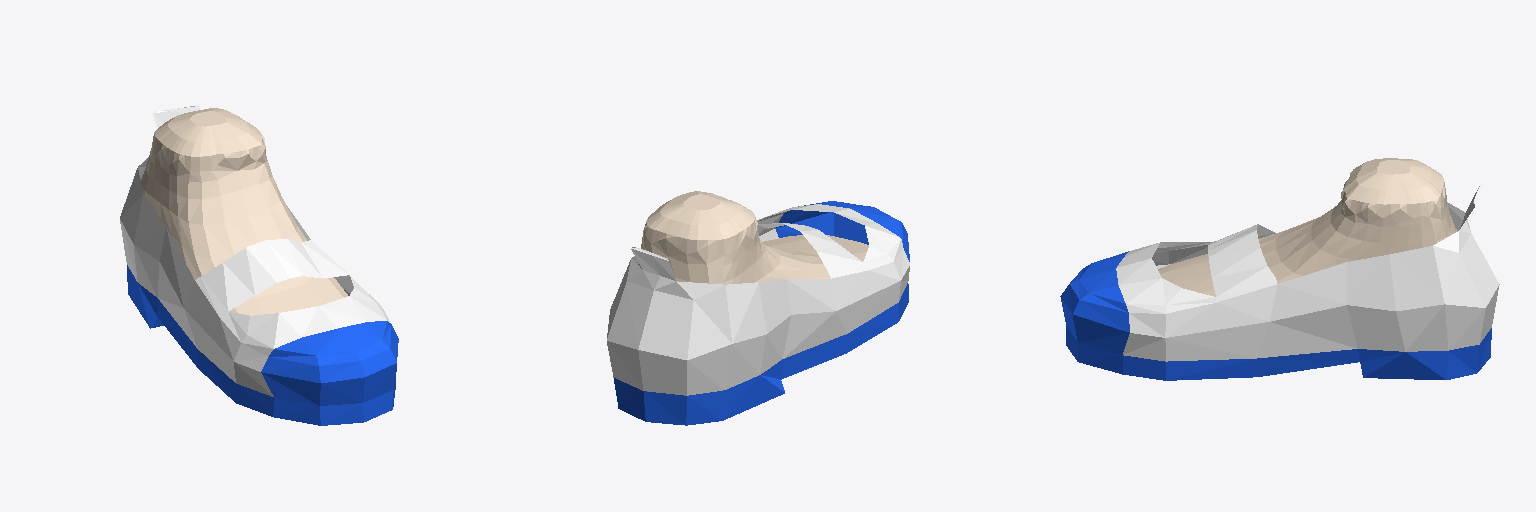
3 renders of one model, left to right at view 1: azimuth 30°, elevation 25°; view 2: azimuth 150°, elevation 25°; view 3: azimuth 270°, elevation 25°, orthographic.
Parts seen in each view (by area): view 1: shoes_right; view 2: shoes_right; view 3: shoes_right.
Part boxes in pixels (x1,y1,x2,y2): shoes_right: (120,105,398,425); shoes_right: (607,191,909,425); shoes_right: (1060,158,1499,380).
Size of the model in its own units: 0.8522 by 0.9751 by 2.09.
Materials: 1 (1 with a texture image).